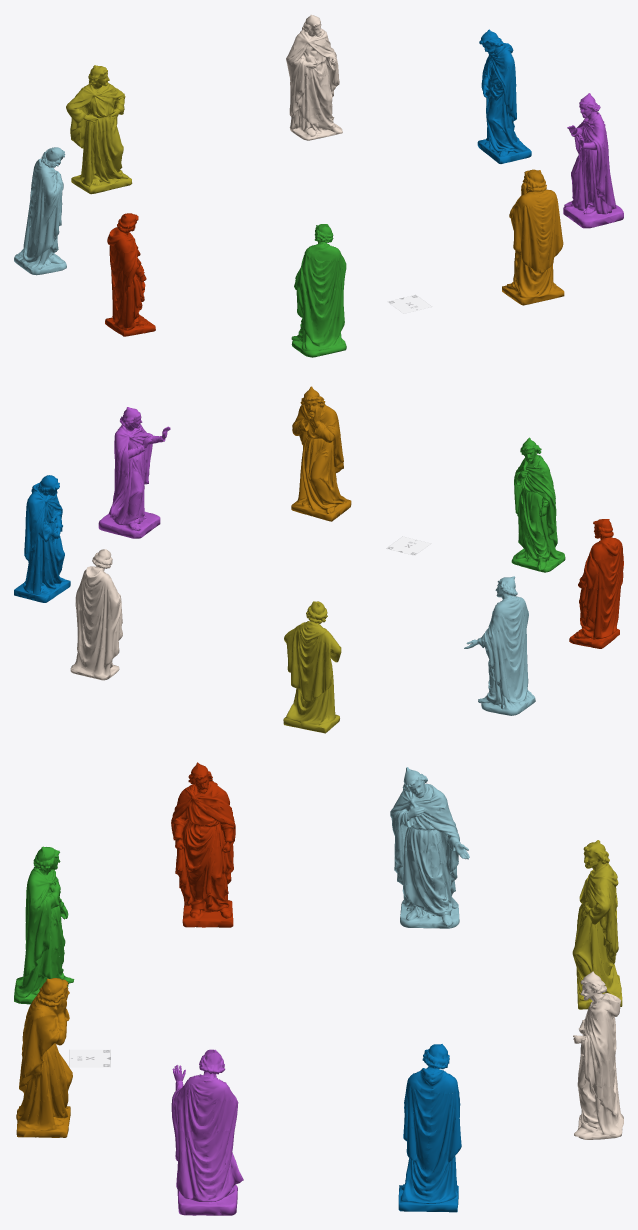
Rendered from project7.glb.
3 views of the same model, one above another, from view 1: azimuth 30°, elevation 25°; view 2: azimuth 150°, elevation 25°; view 3: azimuth 270°, elevation 25° (orthographic). The views are drawn at different scales.
Visible parts, largest first — view 1: 07Reich Fanni/Mészáros Benjamin",; view 2: 07Reich Fanni/Mészáros Benjamin",; view 3: 07Reich Fanni/Mészáros Benjamin",, TRACK.
Part boxes in pixels (box(x1,y1,x2,y2)): 07Reich Fanni/Mészáros Benjamin",: box(14, 14, 623, 357); 07Reich Fanni/Mészáros Benjamin",: box(14, 386, 623, 733); 07Reich Fanni/Mészáros Benjamin",: box(14, 762, 623, 1215); TRACK: box(69, 1050, 110, 1066).
Size of the model in its own units: 8.77 by 2 by 7.27.
Materials: 9 (1 with a texture image).
